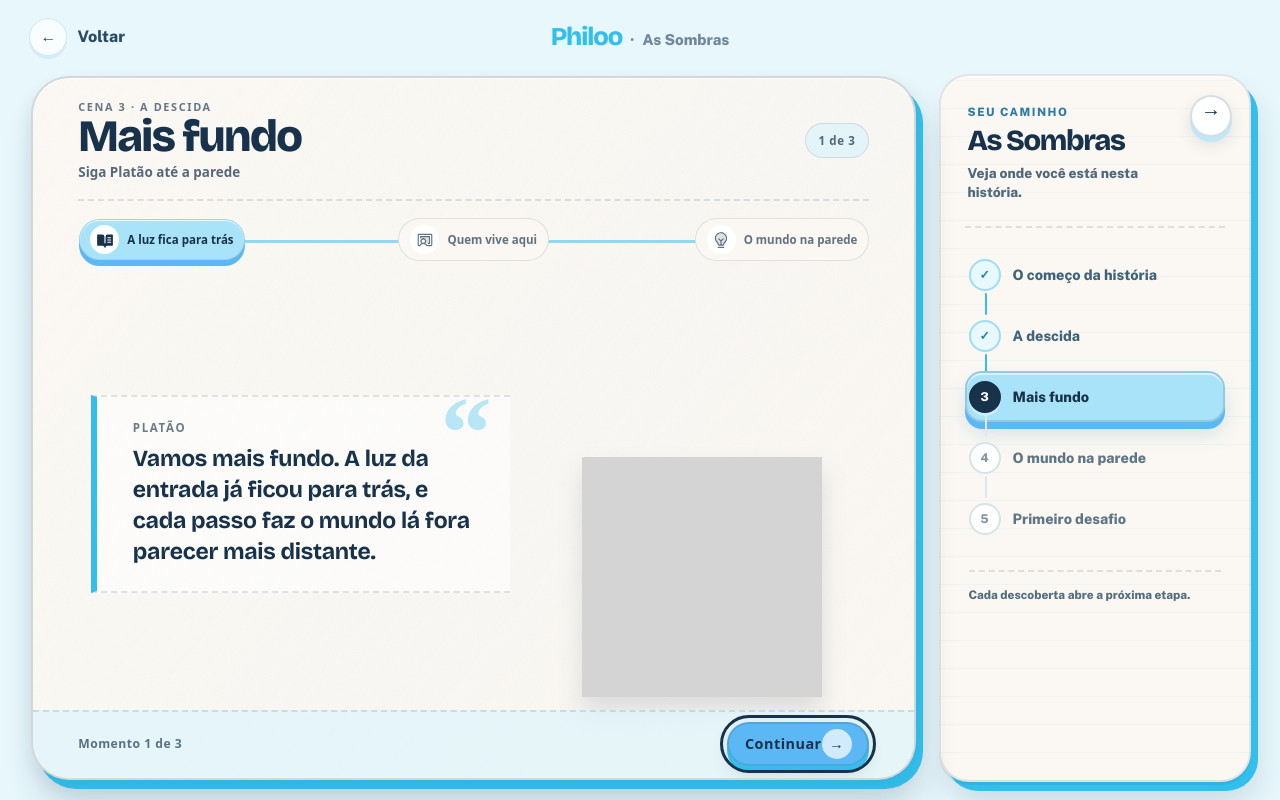
Test case: lets Platão continue the descent as a short sequence of story beats
expect the list named "Caminho nesta cena" is shown: met, box [79,218,869,261]
expect the text "A luz fica para trás" is shown: met, box [78,218,246,261]
Step 1. Click the button "Continuar →" → (798, 744), box [727,722,869,766]
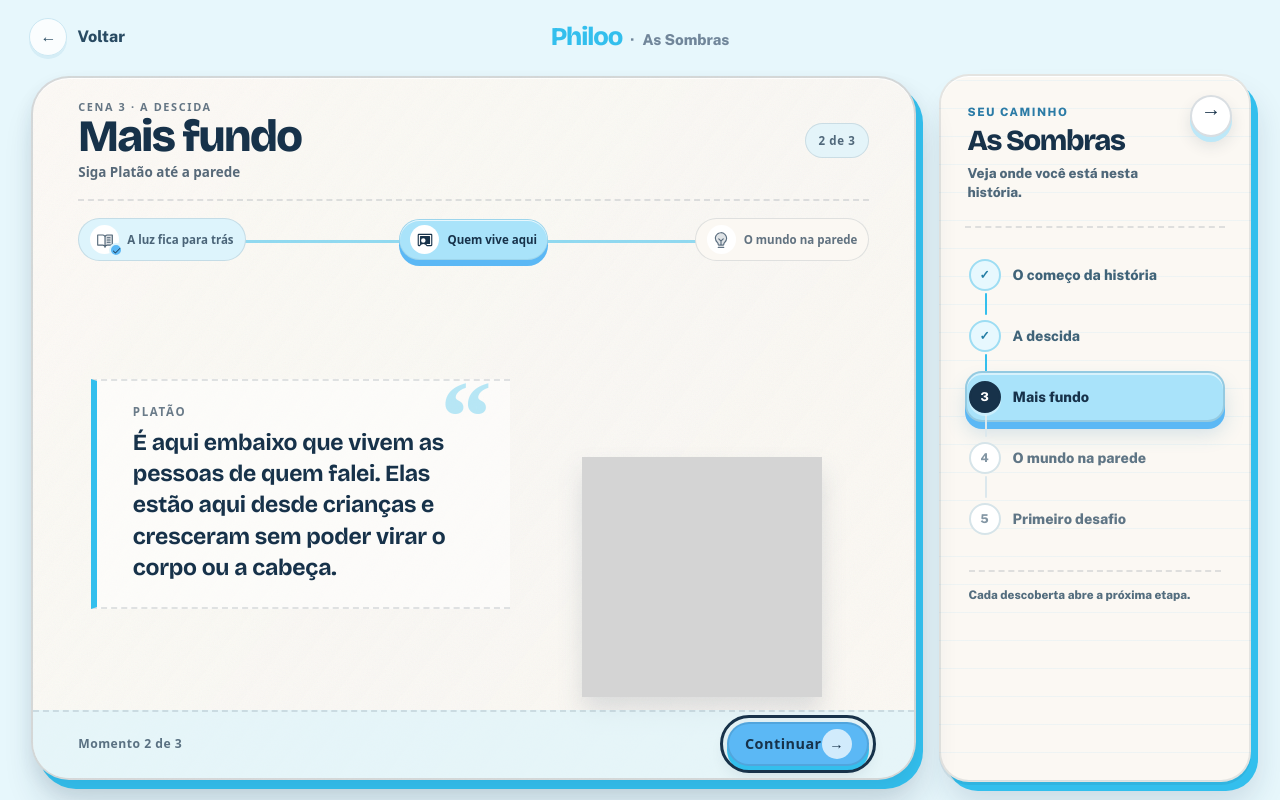
expect the text "Quem vive aqui" is shown: met, box [398,218,549,261]
expect the text "estão aqui desde crianças" is shown: met, box [133,429,446,581]
Step 2. Click the button "Continuar →" → (798, 744), box [727,722,869,766]
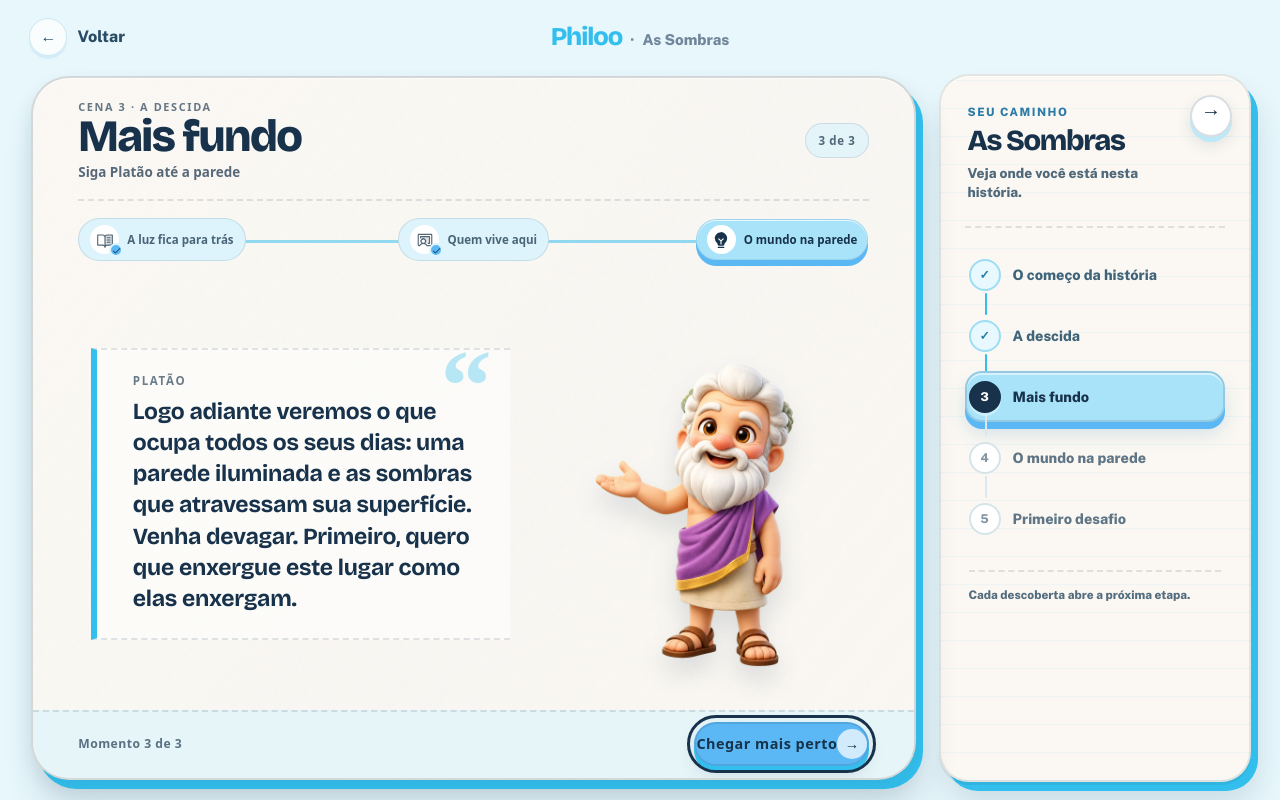
expect the 1st text "O mundo na parede" is shown: met, box [695,218,869,261]
expect the text "uma parede iluminada e as sombras" is shown: met, box [133,398,472,612]
Step 3. Click the button with aria-label "Voltar para História: A luz fica para trás" → (162, 240), box [78,218,246,261]
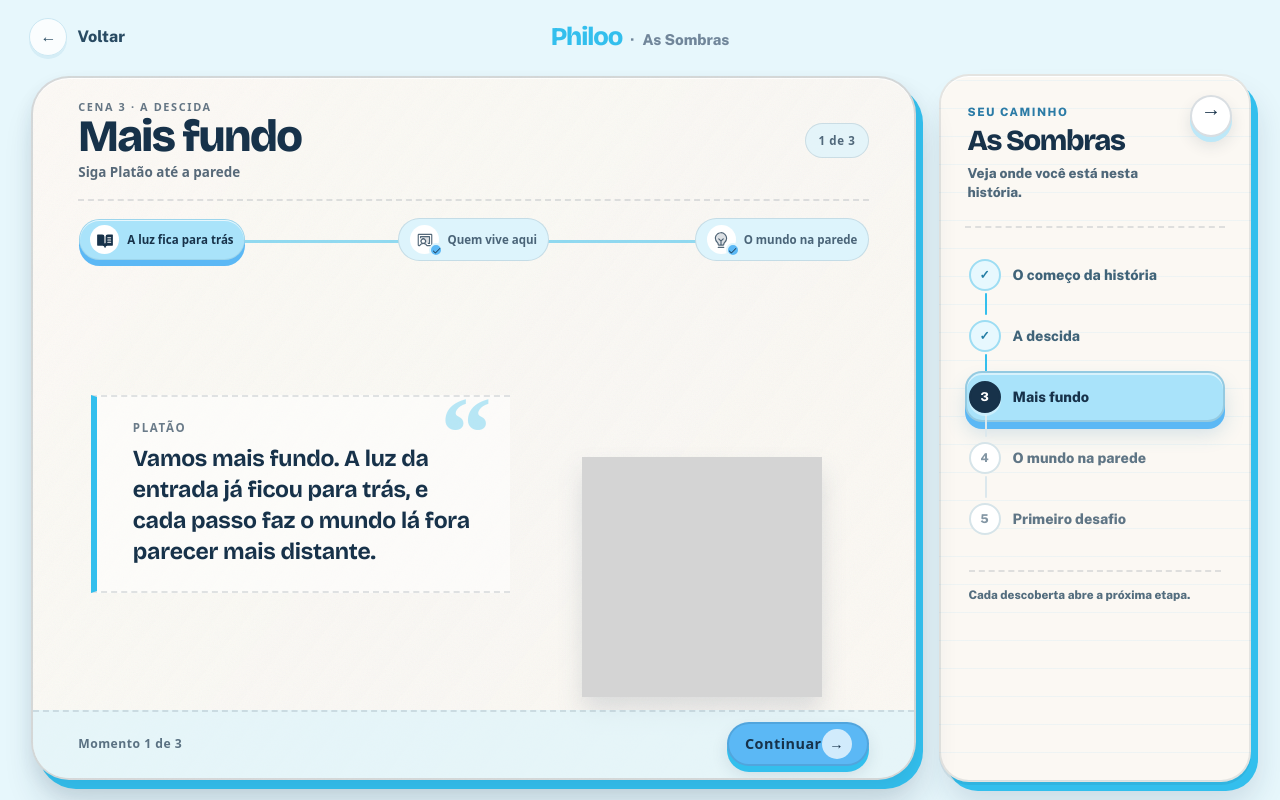
expect the button with aria-label "Voltar para Explicação: Quem vive aqui" is shown: met, box [398,218,549,261]
expect the text "Vamos mais fundo" is shown: met, box [133,445,470,565]
expect the button with aria-label "Voltar para Ideia: O mundo na parede" is shown: met
Step 4. Click the button with aria-label "Voltar para Ideia: O mundo na parede" → (782, 240), box [695,218,869,261]
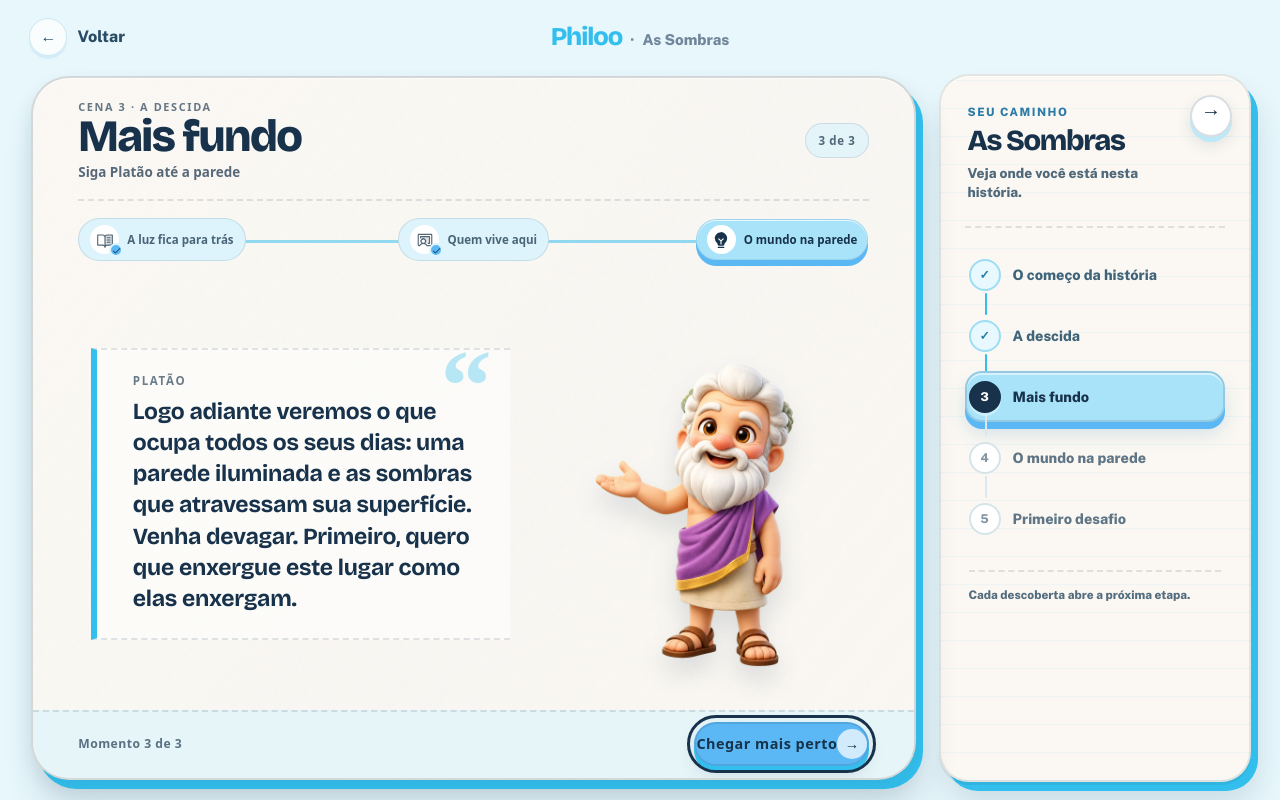
expect the text "uma parede iluminada e as sombras" is shown: met, box [133,398,472,612]
expect the link "Chegar mais perto →" is shown: met, box [694,722,869,766]
